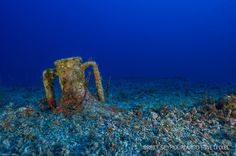amphora: (41, 54, 114, 118)
